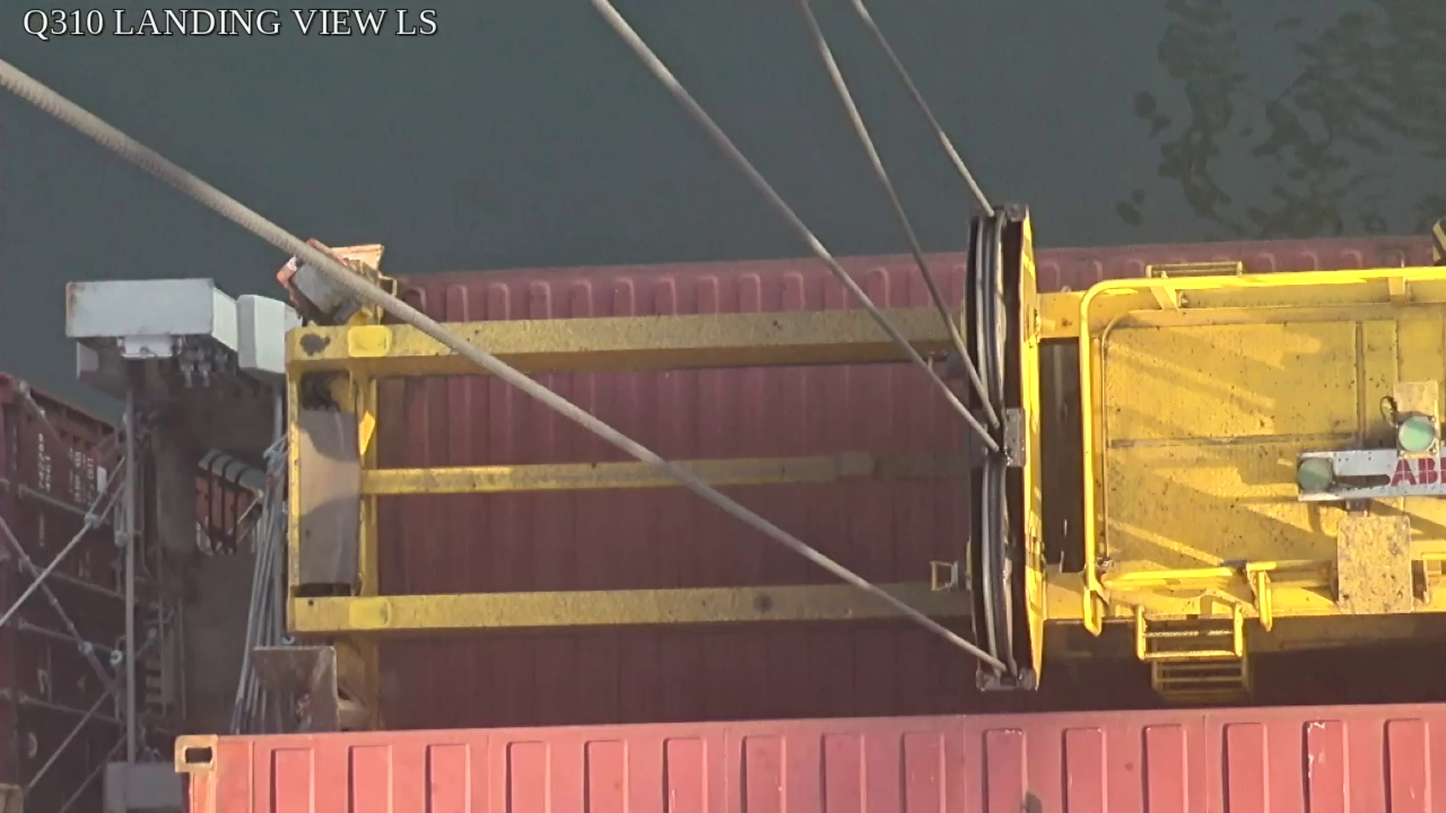left_gear: (962, 203, 1042, 687)
